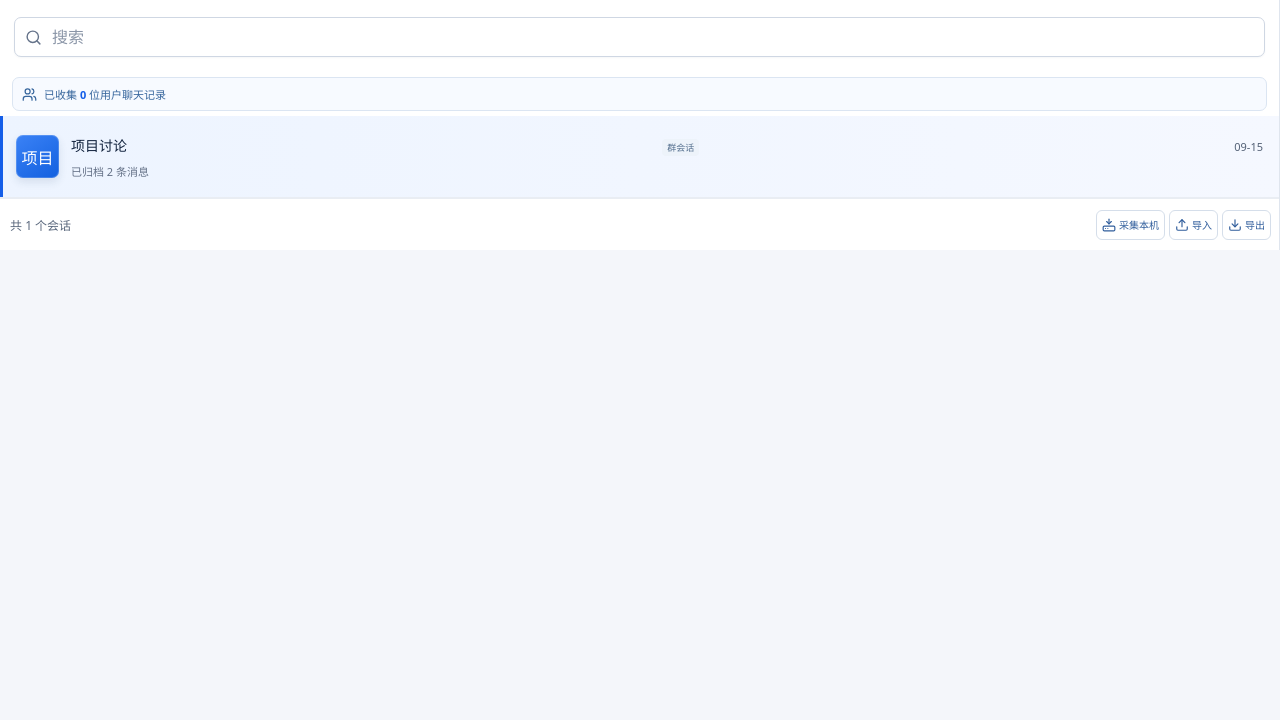
Scenario: global message search › searches the complete archive and opens a selected message result
The image size is (1280, 720).
Focus the field named "打开全局搜索". click: (652, 37)
box: [50,25,1254,49]
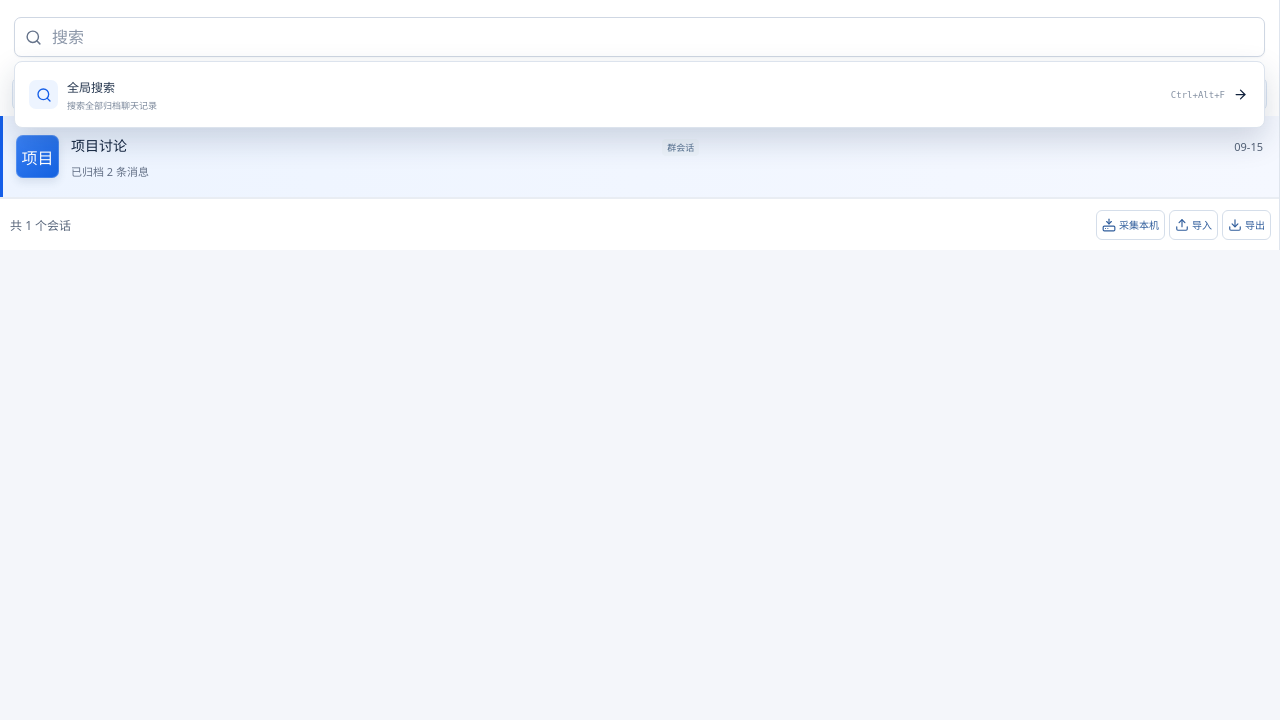
Click the button "全局搜索 搜索全部归档聊天记录 Ctrl+Alt+F". click: click(91, 87)
box: [21,68,1258,121]
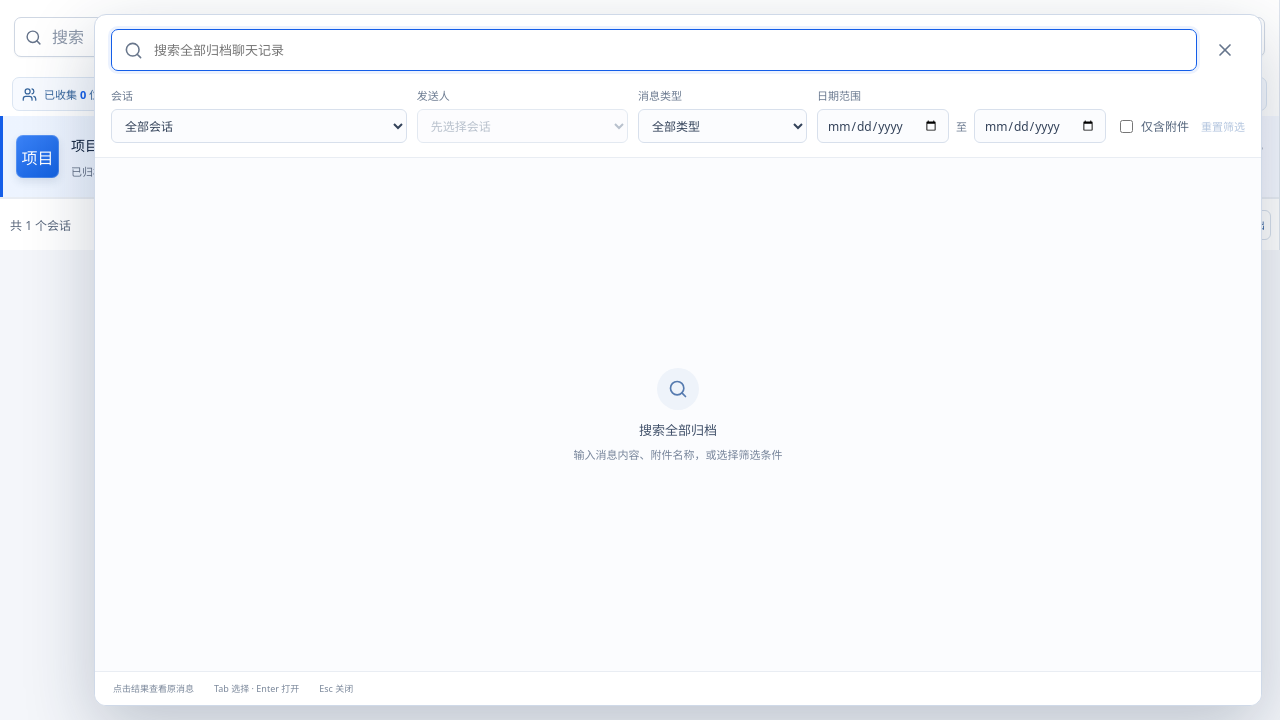
Type "定位" into the field named "全局搜索聊天记录". click: (668, 50)
box: [152,40,1184,60]
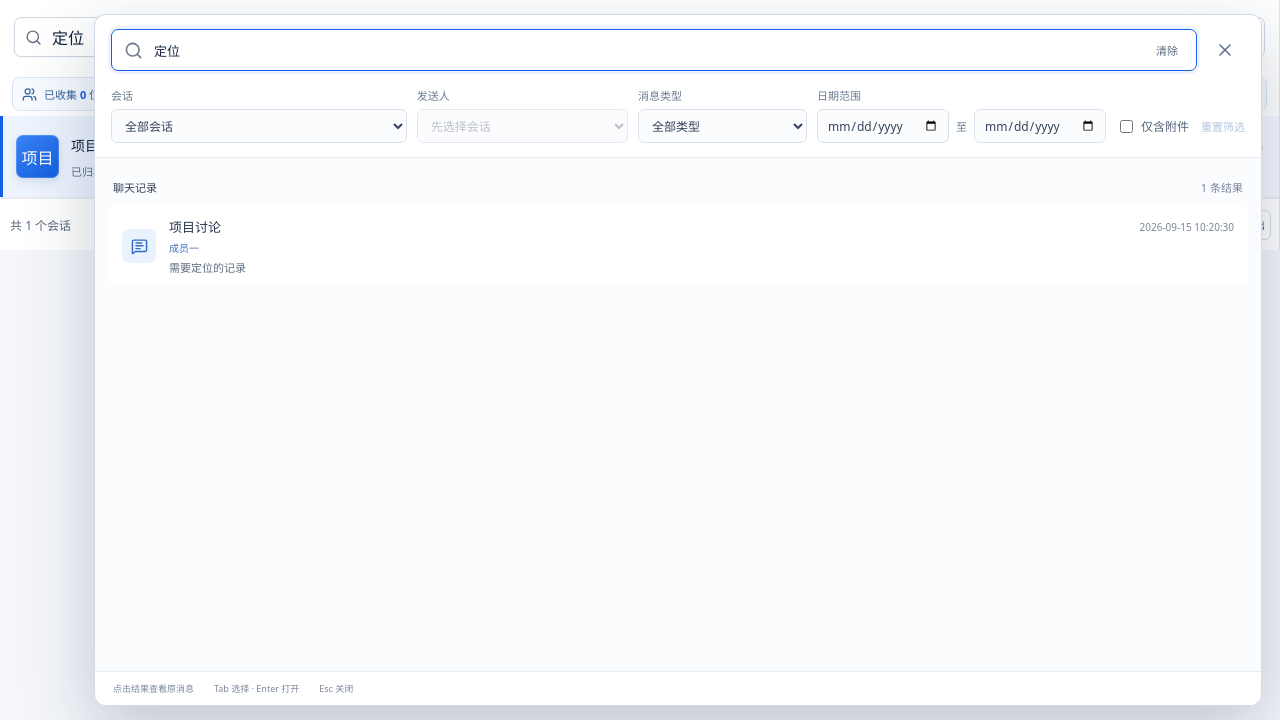
Expected: the text "需要定位的记录" is shown
Click the text "需要定位的记录". click: click(208, 268)
box: [169,260,246,275]
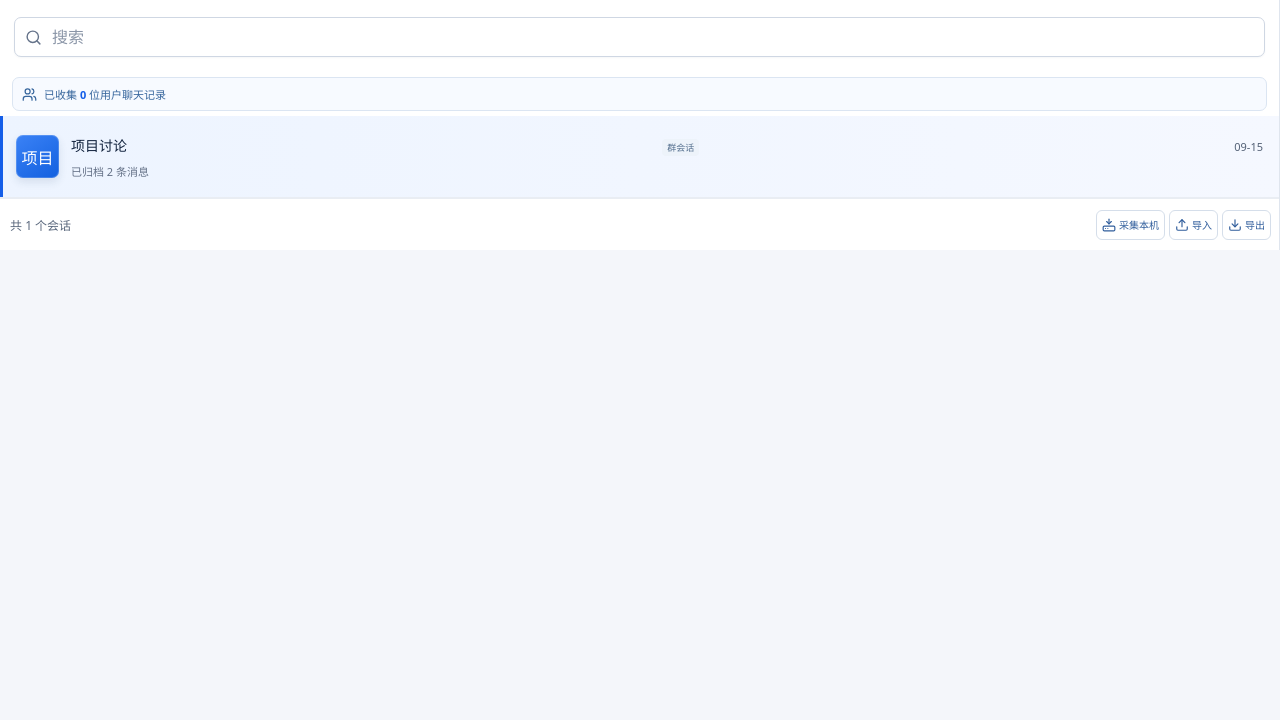
Expected: the element with class "conversation-footer" shows "共 1 个会话", [0,198,1279,250]
Expected: the button "需要定位的记录" is gone
